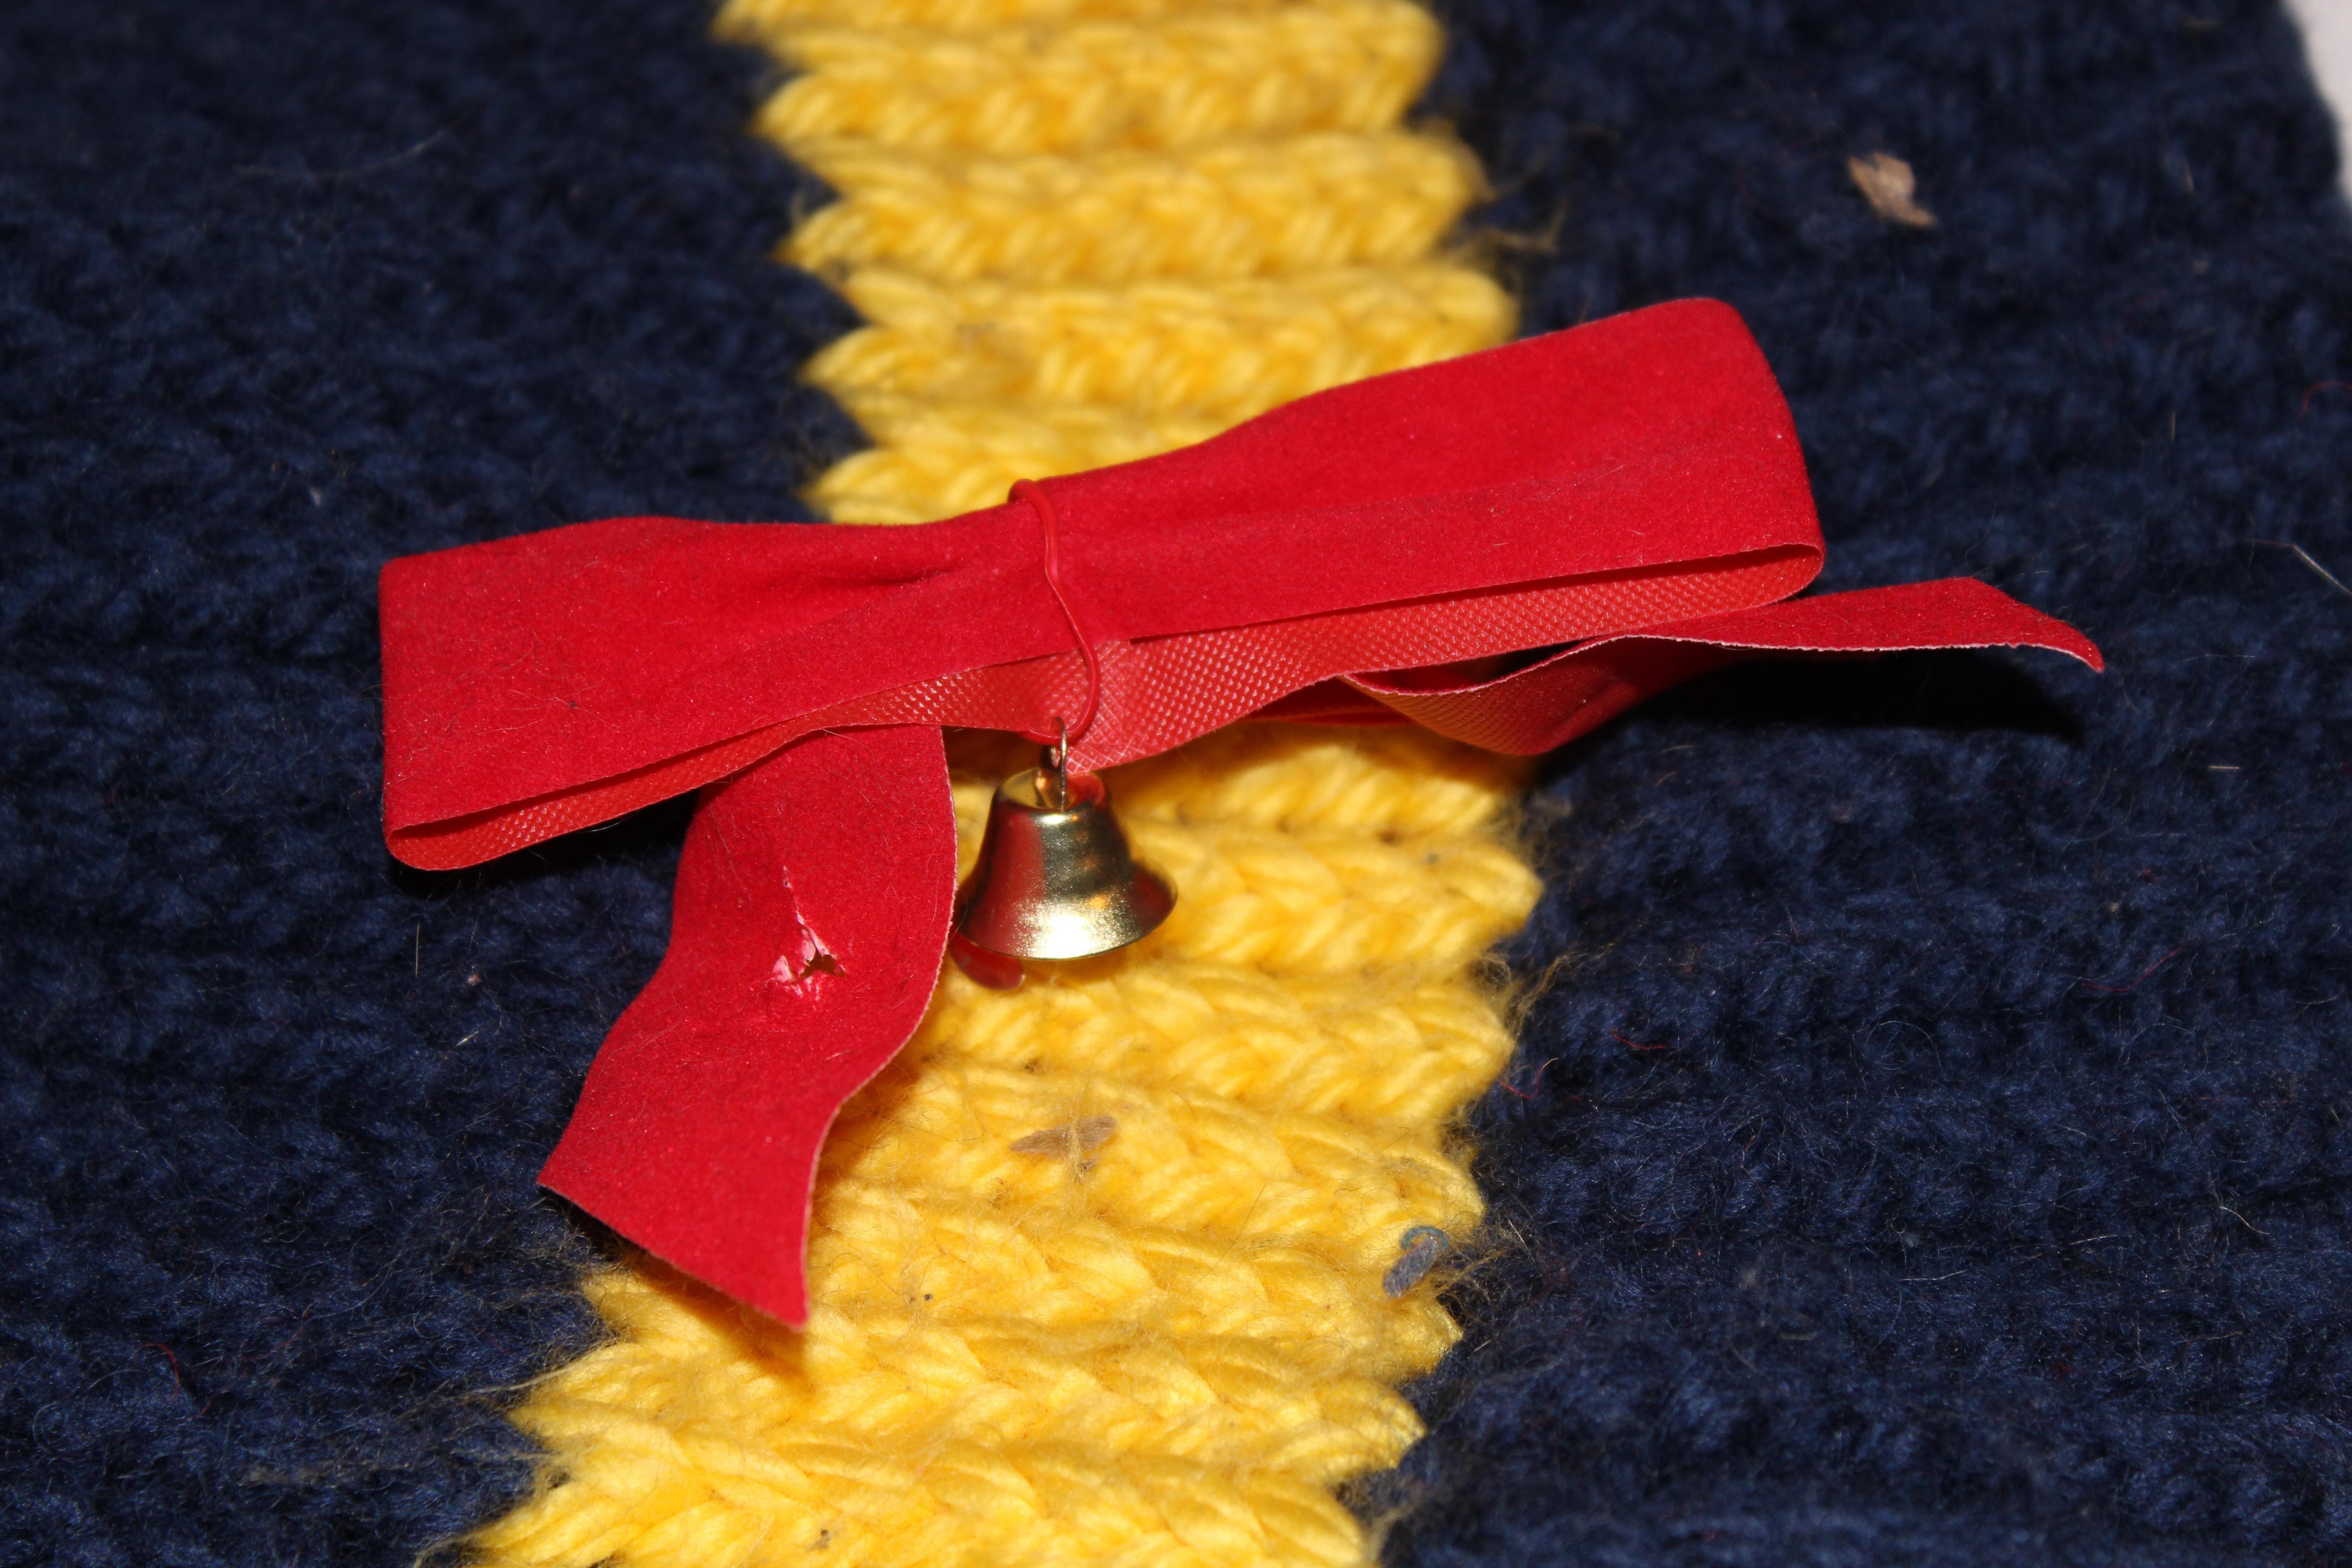redBow: (310, 242, 2165, 1424)
